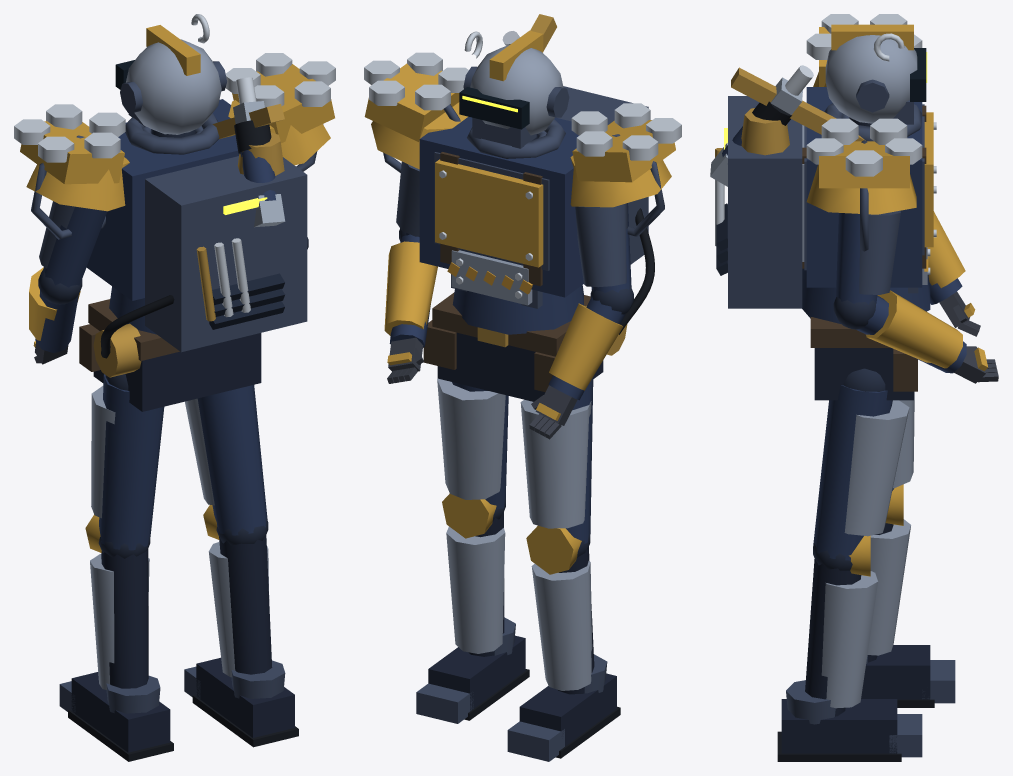
File: hero_forge.glb
3 renders of one model, left to right at view 1: azimuth 30°, elevation 25°; view 2: azimuth 150°, elevation 25°; view 3: azimuth 270°, elevation 25°, orthographic. The views are drawn at different scales.
Parts seen in each view (by area): view 1: hero_forge_pack_body, hero_forge_thigh_l, hero_forge_thigh_r, hero_forge_chest, hero_forge_pelvis, hero_forge_helmet, hero_forge_shin_r, hero_forge_shin_l, hero_forge_boot_l, hero_forge_boot_r, hero_forge_pauldron_bolts-1, hero_forge_pauldron_bolts1 (+36 smaller); view 2: hero_forge_chest, hero_forge_chest_plate_face, hero_forge_thigh_plate_r, hero_forge_thigh_plate_l, hero_forge_greave_l, hero_forge_greave_r, hero_forge_pelvis, hero_forge_helmet, hero_forge_abdomen, hero_forge_bicep_plate_l, hero_forge_pauldron_bolts-1, hero_forge_boot_r (+37 smaller); view 3: hero_forge_pack_body, hero_forge_chest, hero_forge_thigh_r, hero_forge_thigh_plate_r, hero_forge_greave_r, hero_forge_helmet, hero_forge_boot_r, hero_forge_bracer_r, hero_forge_pauldron_bolts1, hero_forge_greave_l, hero_forge_boot_l, hero_forge_pelvis (+36 smaller).
Boxes of the visible parts, x1=… form: hero_forge_pack_body: x1=145, y1=156, x2=307, y2=352; hero_forge_thigh_l: x1=99, y1=374, x2=164, y2=550; hero_forge_thigh_r: x1=197, y1=385, x2=267, y2=535; hero_forge_chest: x1=86, y1=99, x2=239, y2=300; hero_forge_pelvis: x1=93, y1=333, x2=261, y2=411; hero_forge_helmet: x1=126, y1=39, x2=221, y2=134; hero_forge_shin_r: x1=219, y1=534, x2=272, y2=674; hero_forge_shin_l: x1=101, y1=549, x2=148, y2=688; hero_forge_boot_l: x1=71, y1=672, x2=170, y2=752; hero_forge_boot_r: x1=196, y1=657, x2=294, y2=737; hero_forge_pauldron_bolts-1: x1=14, y1=104, x2=125, y2=162; hero_forge_pauldron_bolts1: x1=225, y1=53, x2=335, y2=107; hero_forge_chest: x1=419, y1=116, x2=583, y2=297; hero_forge_chest_plate_face: x1=435, y1=159, x2=543, y2=267; hero_forge_thigh_plate_r: x1=437, y1=378, x2=505, y2=499; hero_forge_thigh_plate_l: x1=520, y1=399, x2=591, y2=528; hero_forge_greave_l: x1=531, y1=561, x2=592, y2=690; hero_forge_greave_r: x1=446, y1=526, x2=505, y2=653; hero_forge_pelvis: x1=437, y1=332, x2=603, y2=401; hero_forge_helmet: x1=470, y1=45, x2=563, y2=135; hero_forge_abdomen: x1=452, y1=285, x2=583, y2=334; hero_forge_bicep_plate_l: x1=575, y1=203, x2=627, y2=287; hero_forge_pauldron_bolts-1: x1=571, y1=103, x2=681, y2=160; hero_forge_boot_r: x1=428, y1=635, x2=525, y2=710; hero_forge_pack_body: x1=728, y1=96, x2=802, y2=308; hero_forge_chest: x1=806, y1=87, x2=922, y2=287; hero_forge_thigh_r: x1=813, y1=385, x2=892, y2=560; hero_forge_thigh_plate_r: x1=844, y1=400, x2=909, y2=536; hero_forge_greave_r: x1=821, y1=571, x2=877, y2=708; hero_forge_helmet: x1=825, y1=35, x2=917, y2=123; hero_forge_boot_r: x1=781, y1=699, x2=897, y2=753; hero_forge_bracer_r: x1=866, y1=290, x2=962, y2=368; hero_forge_pauldron_bolts1: x1=806, y1=118, x2=922, y2=176; hero_forge_greave_l: x1=867, y1=519, x2=910, y2=655; hero_forge_boot_l: x1=861, y1=645, x2=930, y2=699; hero_forge_pelvis: x1=814, y1=348, x2=913, y2=400.
Bounding box in the file's own units: 0.8588 × 1.89 × 0.6986.
